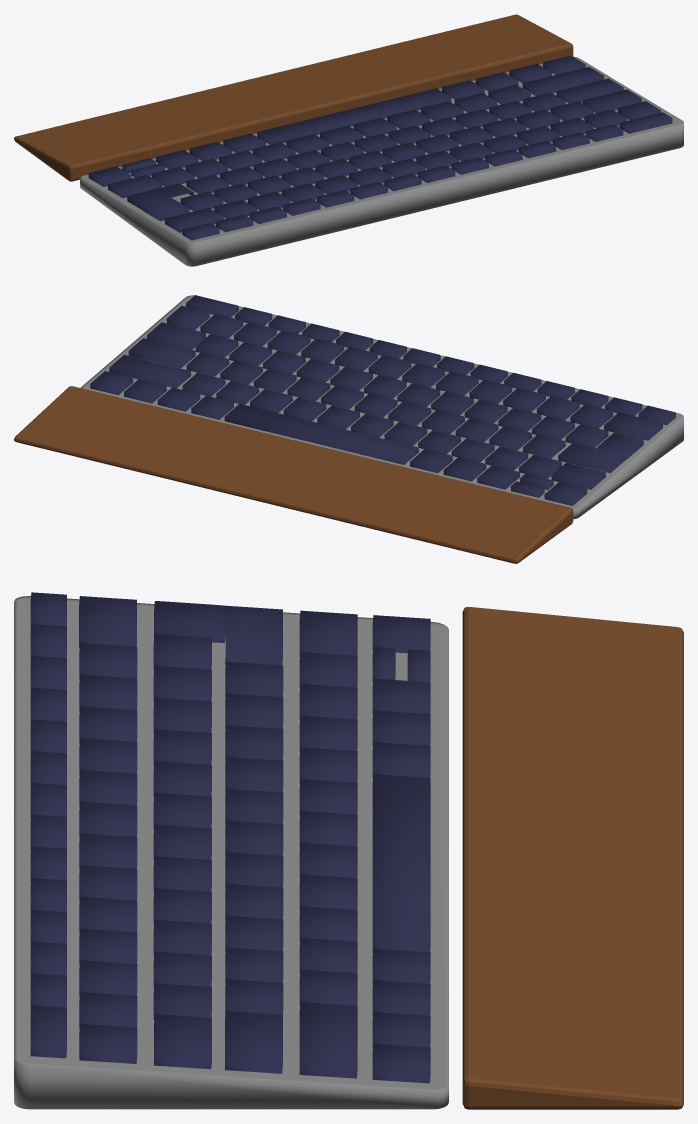
File: keyboard.fbx
The picture shows the model from 3 angles, top to bottom: view 1: azimuth 30°, elevation 25°; view 2: azimuth 150°, elevation 25°; view 3: azimuth 270°, elevation 25°; orthographic projection. The views are drawn at different scales.
Visible parts, largest first — view 1: Cube.013, Cube.001, Cube; view 2: Cube.013, Cube.001, Cube; view 3: Cube.013, Cube.001, Cube.
Boxes of the visible parts, left/top/right/bottom form: Cube.013: left=88, top=55, right=672, bottom=240; Cube.001: left=14, top=14, right=573, bottom=181; Cube: left=80, top=56, right=683, bottom=266; Cube.013: left=90, top=295, right=675, bottom=505; Cube.001: left=14, top=386, right=573, bottom=563; Cube: left=81, top=295, right=683, bottom=519; Cube.013: left=30, top=592, right=430, bottom=1083; Cube.001: left=462, top=606, right=683, bottom=1109; Cube: left=14, top=596, right=448, bottom=1109.
Bounding box in the file's own units: 70.1 × 3.69 × 41.69.
